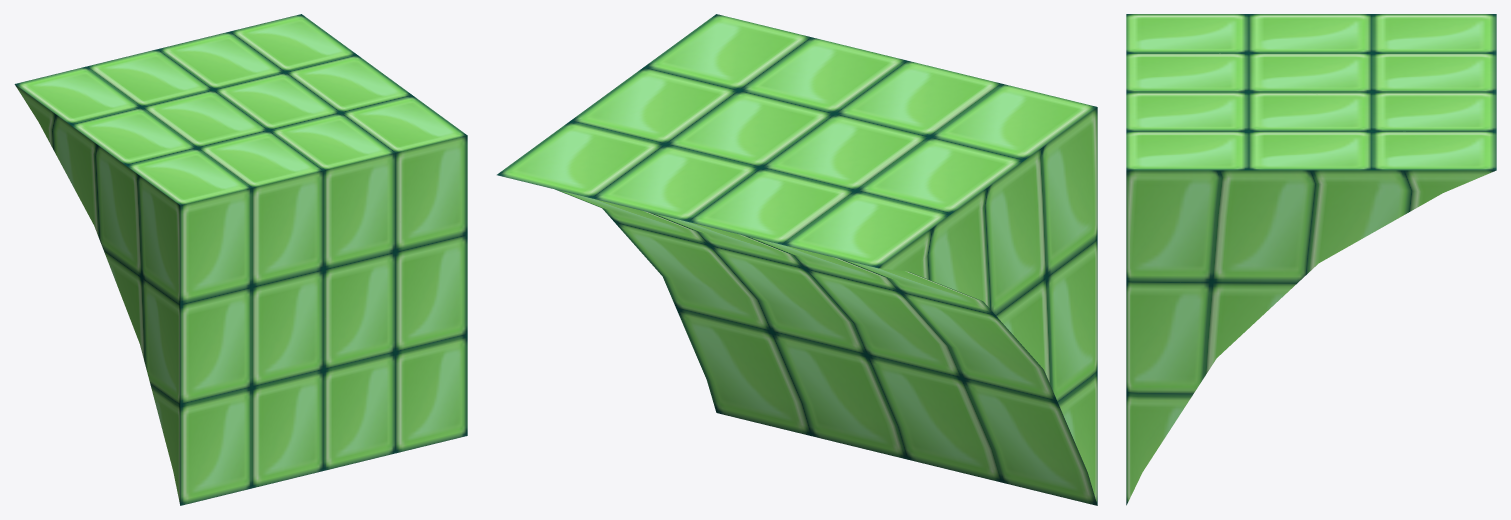
File: POL0310014.fbx
3 renders of one model, left to right at view 1: azimuth 30°, elevation 25°; view 2: azimuth 150°, elevation 25°; view 3: azimuth 270°, elevation 25°, orthographic. The views are drawn at different scales.
Visible parts, largest first — view 1: smPOL0310014; view 2: smPOL0310014; view 3: smPOL0310014.
Part boxes in pixels (x1,y1,x2,y2): smPOL0310014: (14,14,467,505); smPOL0310014: (497,14,1097,505); smPOL0310014: (1126,14,1496,505).
Size of the model in its own units: 161 by 161 by 161.
1 material, 1 textured.
